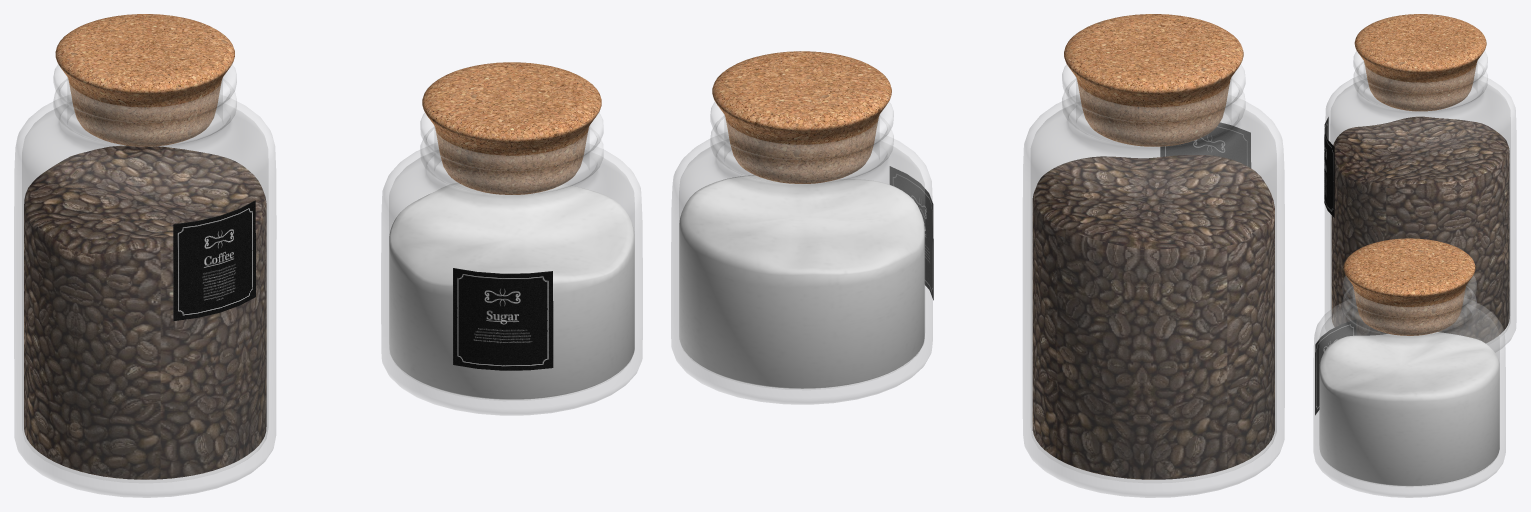
The model's file is kitchen-set-8-glass-pots-stable.glb.
3 views of the same model, side by side, from view 1: azimuth 30°, elevation 25°; view 2: azimuth 150°, elevation 25°; view 3: azimuth 270°, elevation 25° (orthographic). The views are drawn at different scales.
Parts seen in each view (by area): view 1: 3DGeom~24_Defintion, 3DGeom~67_Defintion; view 2: 3DGeom~24_Defintion, 3DGeom~67_Defintion; view 3: 3DGeom~24_Defintion, 3DGeom~67_Defintion.
Boxes of the visible parts, x1=… form: 3DGeom~24_Defintion: x1=14, y1=14, x2=276, y2=497; 3DGeom~67_Defintion: x1=381, y1=62, x2=642, y2=415; 3DGeom~24_Defintion: x1=1023, y1=14, x2=1284, y2=497; 3DGeom~67_Defintion: x1=671, y1=51, x2=933, y2=404; 3DGeom~24_Defintion: x1=1324, y1=14, x2=1516, y2=349; 3DGeom~67_Defintion: x1=1313, y1=238, x2=1505, y2=497.
Bounding box in the file's own units: 0.3292 × 0.2144 × 0.1347.
Materials: 6 (5 with a texture image).
